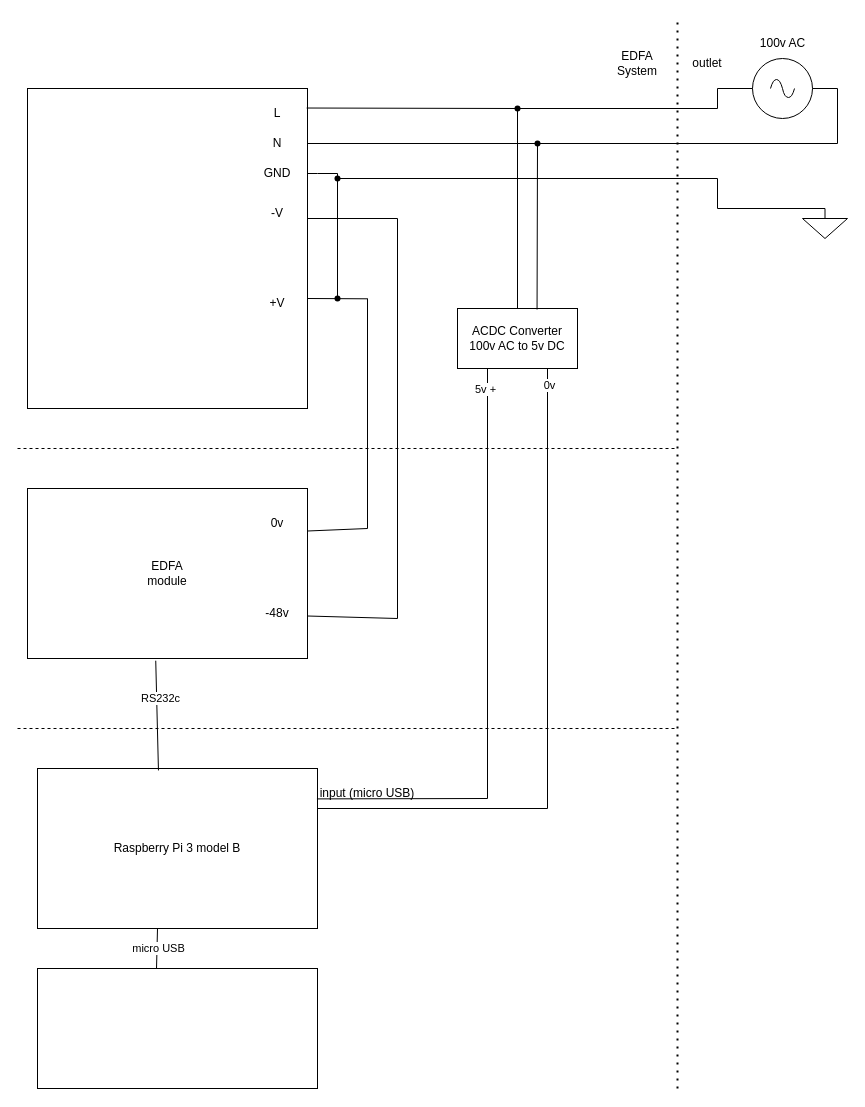
The diagram is 865 pixels wide and 1107 high, and some of its shapes have lost their labels. Here are the shapes that lost their labels. From the top down, the box of each, then its label:
(26, 88, 308, 408): ACDC Converter 100v AC to -48v DC https://amzn.asia/d/3lReE6g
(36, 968, 318, 1088): LCD Display https://amzn.asia/d/6WWuFAE
